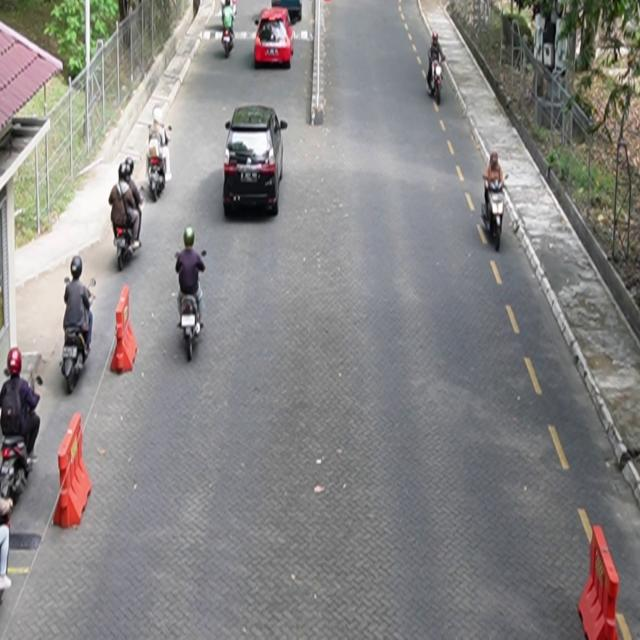car: (224, 105, 289, 218), (254, 8, 295, 69)
